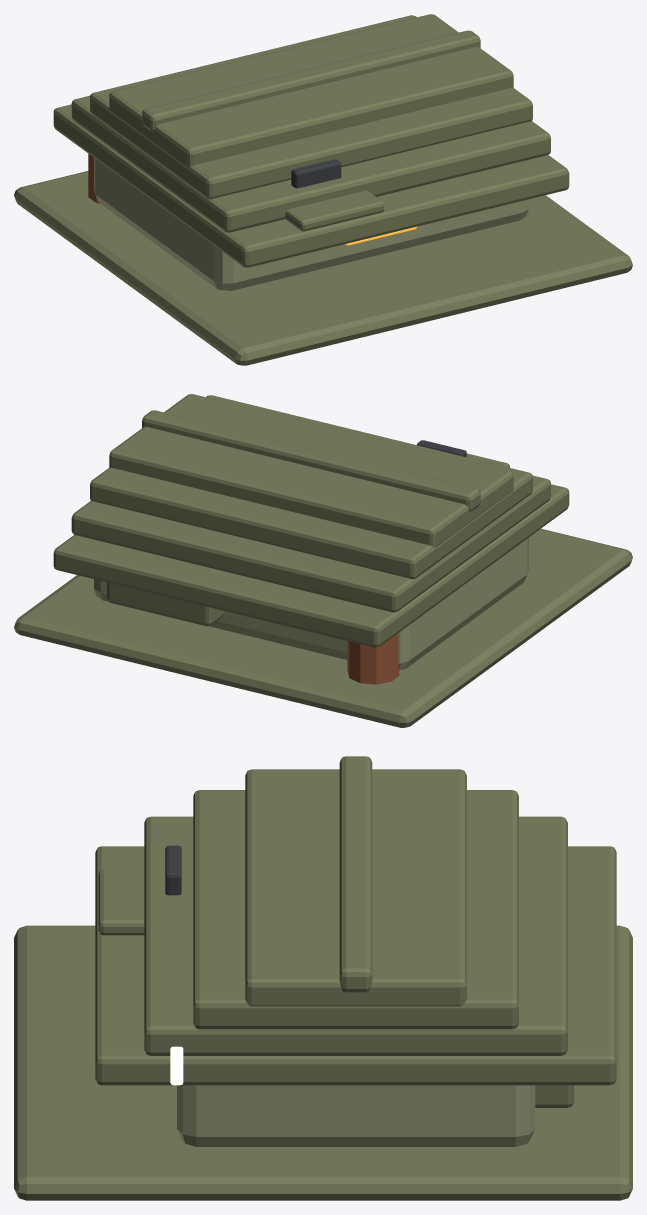
File: com_barracks.glb
3 renders of one model, top to bottom at view 1: azimuth 30°, elevation 25°; view 2: azimuth 150°, elevation 25°; view 3: azimuth 270°, elevation 25°, orthographic. The views are drawn at different scales.
Visible parts, largest first — view 1: com_barracks; view 2: com_barracks; view 3: com_barracks.
Boxes of the visible parts, left/top/right/bottom form: com_barracks: left=14, top=14, right=632, bottom=365; com_barracks: left=14, top=394, right=632, bottom=727; com_barracks: left=14, top=756, right=632, bottom=1200.
Size of the model in its own units: 1.9 by 0.72 by 1.9.
